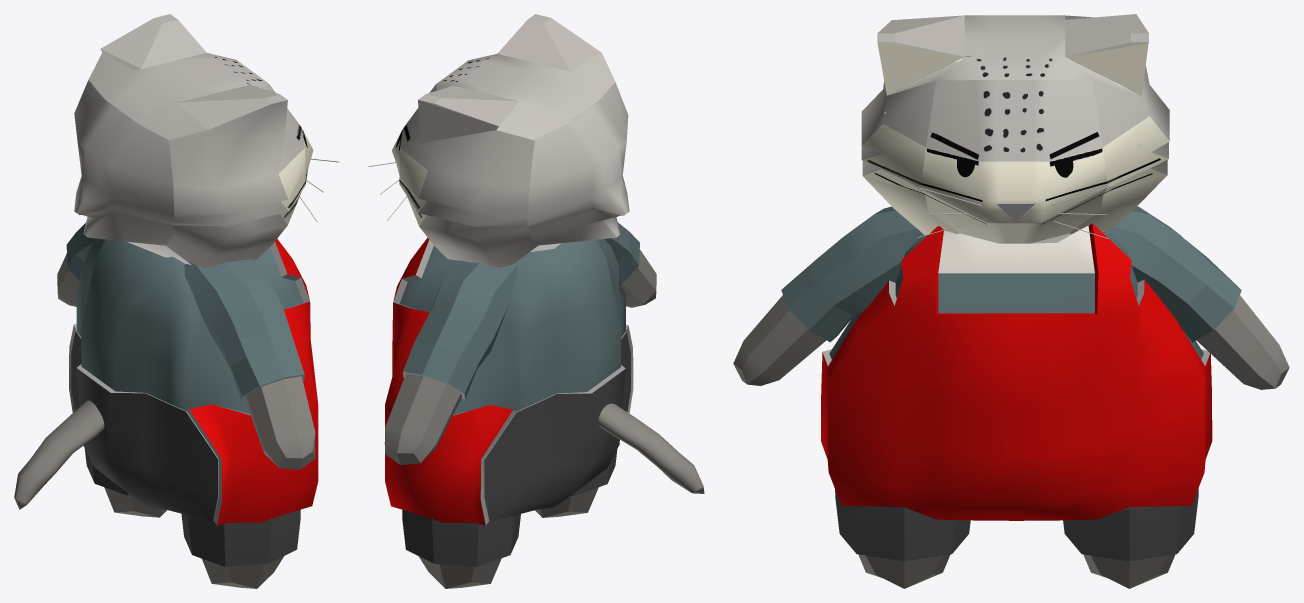
The model's file is Butcher.fbx.
The picture shows the model from 3 angles, left to right: view 1: azimuth 30°, elevation 25°; view 2: azimuth 150°, elevation 25°; view 3: azimuth 270°, elevation 25°; orthographic projection. The views are drawn at different scales.
Parts seen in each view (by area): view 1: pCube1, grandma:smolcat:CatHead:Head, Arm2, leg2, pCylinder1, Arm3, leg3; view 2: pCube1, grandma:smolcat:CatHead:Head, Arm3, leg3, pCylinder1, Arm2, leg2; view 3: pCube1, grandma:smolcat:CatHead:Head, Arm2, Arm3, leg2, leg3.
Part boxes in pixels (left/top/right/bottom): pCube1: left=69, top=238, right=318, bottom=525; grandma:smolcat:CatHead:Head: left=74, top=14, right=313, bottom=268; Arm2: left=184, top=259, right=315, bottom=469; leg2: left=181, top=509, right=300, bottom=588; pCylinder1: left=14, top=400, right=104, bottom=509; Arm3: left=57, top=223, right=96, bottom=306; leg3: left=84, top=448, right=166, bottom=517; pCube1: left=384, top=237, right=633, bottom=525; grandma:smolcat:CatHead:Head: left=392, top=14, right=629, bottom=267; Arm3: left=385, top=260, right=517, bottom=464; leg3: left=402, top=510, right=520, bottom=588; pCylinder1: left=598, top=403, right=704, bottom=493; Arm2: left=604, top=222, right=656, bottom=307; leg2: left=535, top=449, right=617, bottom=517; pCube1: left=821, top=223, right=1212, bottom=520; grandma:smolcat:CatHead:Head: left=861, top=14, right=1169, bottom=243; Arm2: left=733, top=206, right=923, bottom=385; Arm3: left=1110, top=206, right=1289, bottom=389; leg2: left=835, top=489, right=970, bottom=588; leg3: left=1063, top=488, right=1198, bottom=588.
Bounding box in the file's own units: 169 × 268 × 240.
9 materials, 1 textured.
